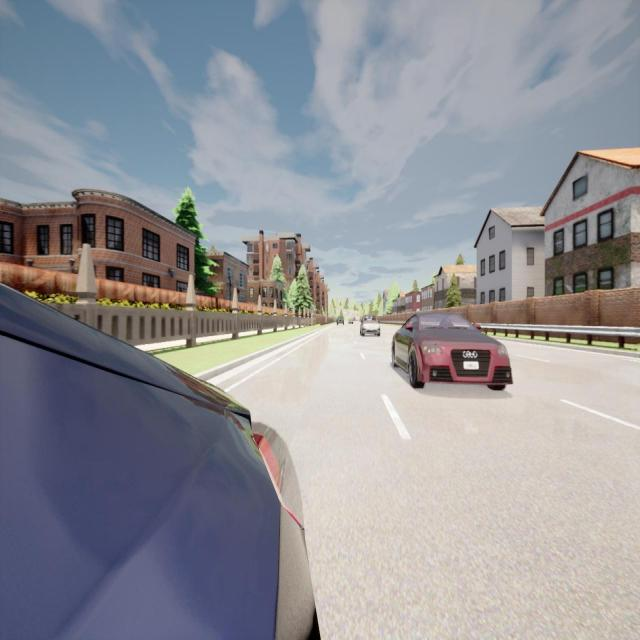Vehicle: (0, 280, 320, 640), (392, 312, 512, 390), (360, 315, 382, 339), (336, 315, 344, 326), (348, 318, 354, 326)
